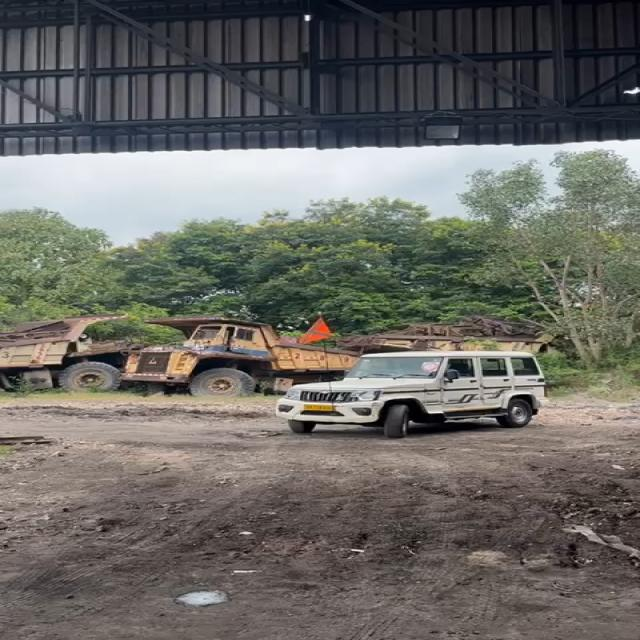light_vehicle: (280, 349, 551, 434)
